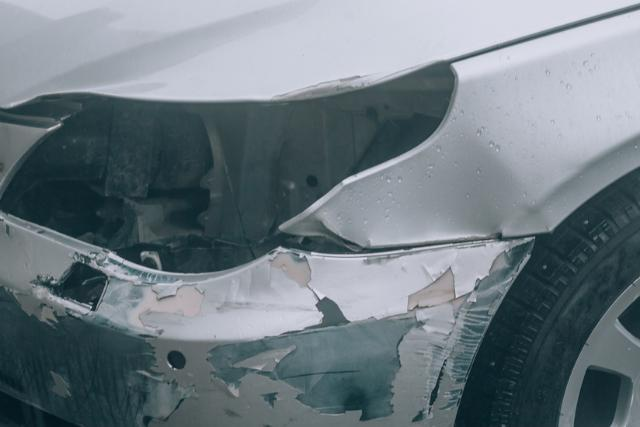Bumper: (0, 237, 519, 427)
Light: (27, 104, 392, 252)
